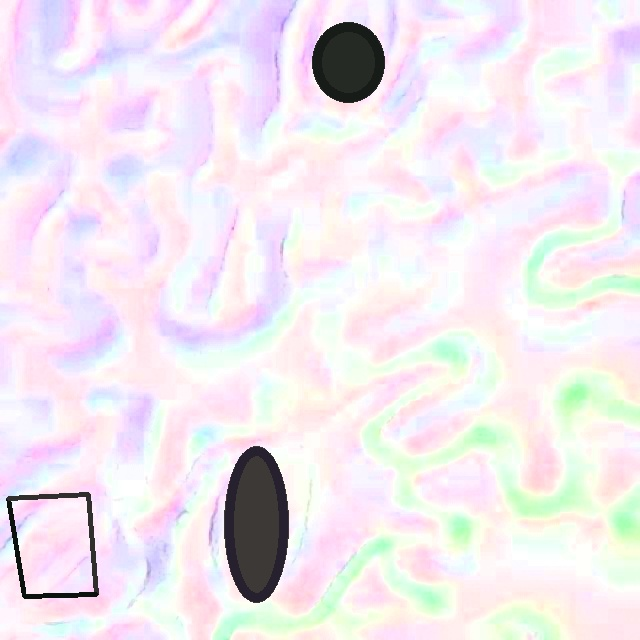close: (7, 493, 98, 597)
open: (224, 447, 287, 602), (312, 22, 385, 102)
